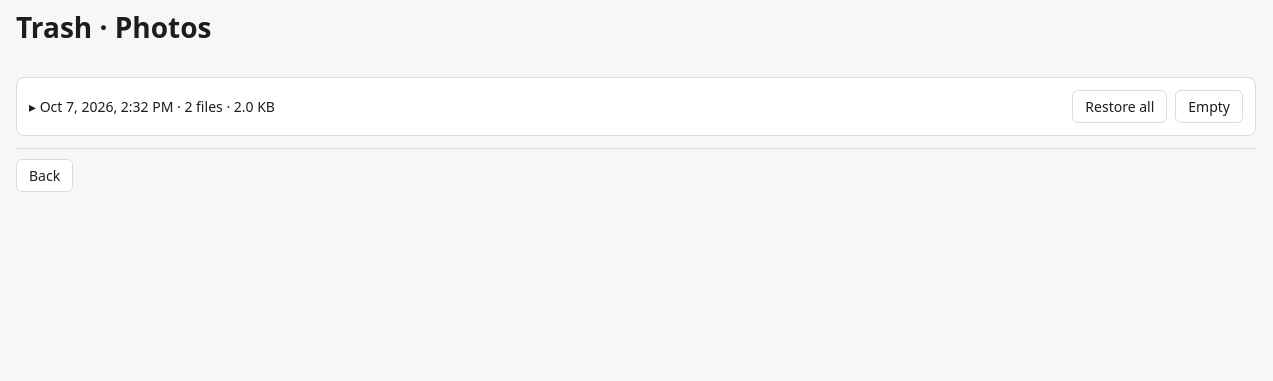
Test: Trash › shows an error when the folder cannot be opened
The image size is (1273, 381).
Click the button "▸ Oct 7, 2026, 2:32 PM · 2 files · 2.0 KB" at (152,106), box [29,96,275,116]
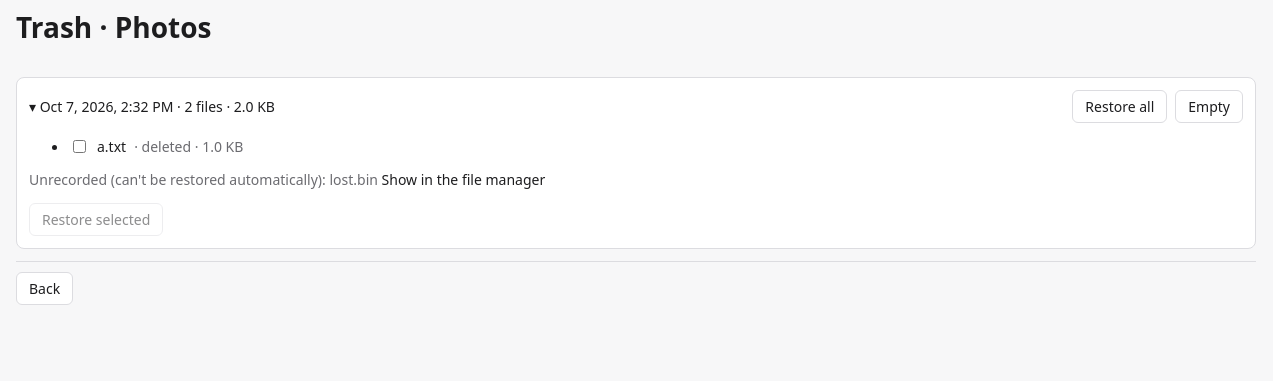
Click the button "Show in the file manager" at (463,179), box [382,170,545,188]
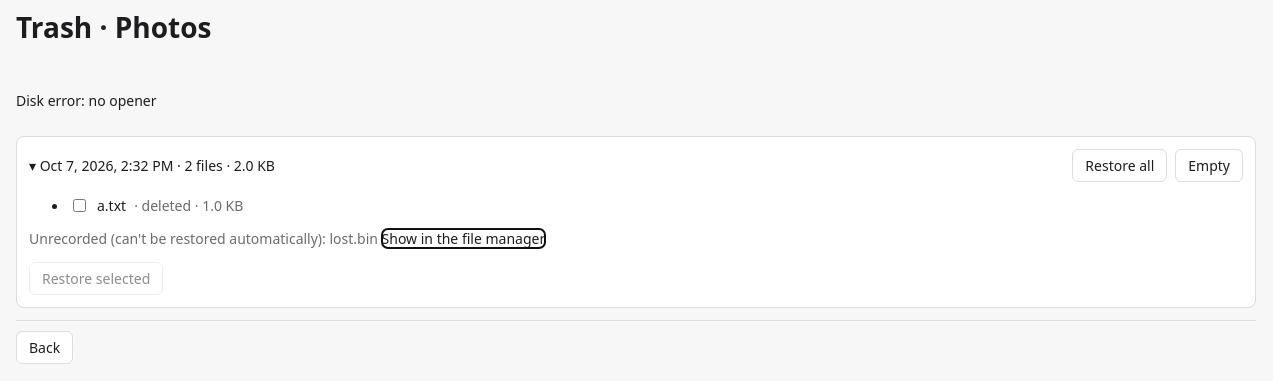
Expected: the text "Disk error: no opener" is shown, [16,90,156,110]
